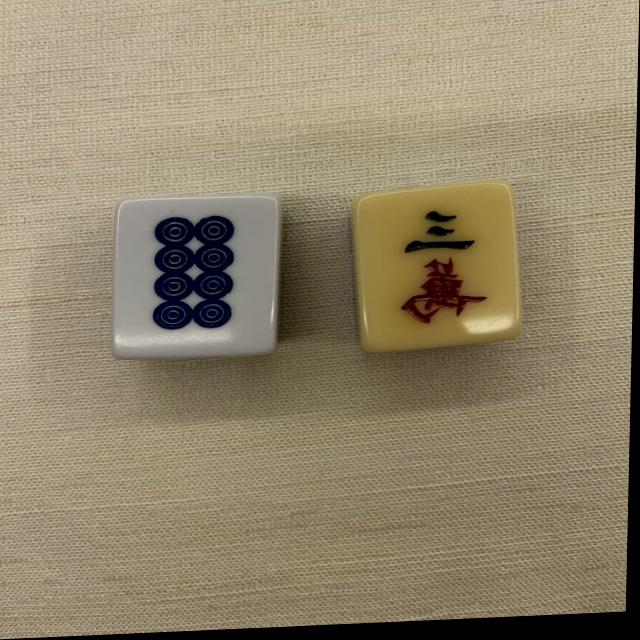m3: (353, 186, 519, 354)
t8: (117, 193, 275, 359)
